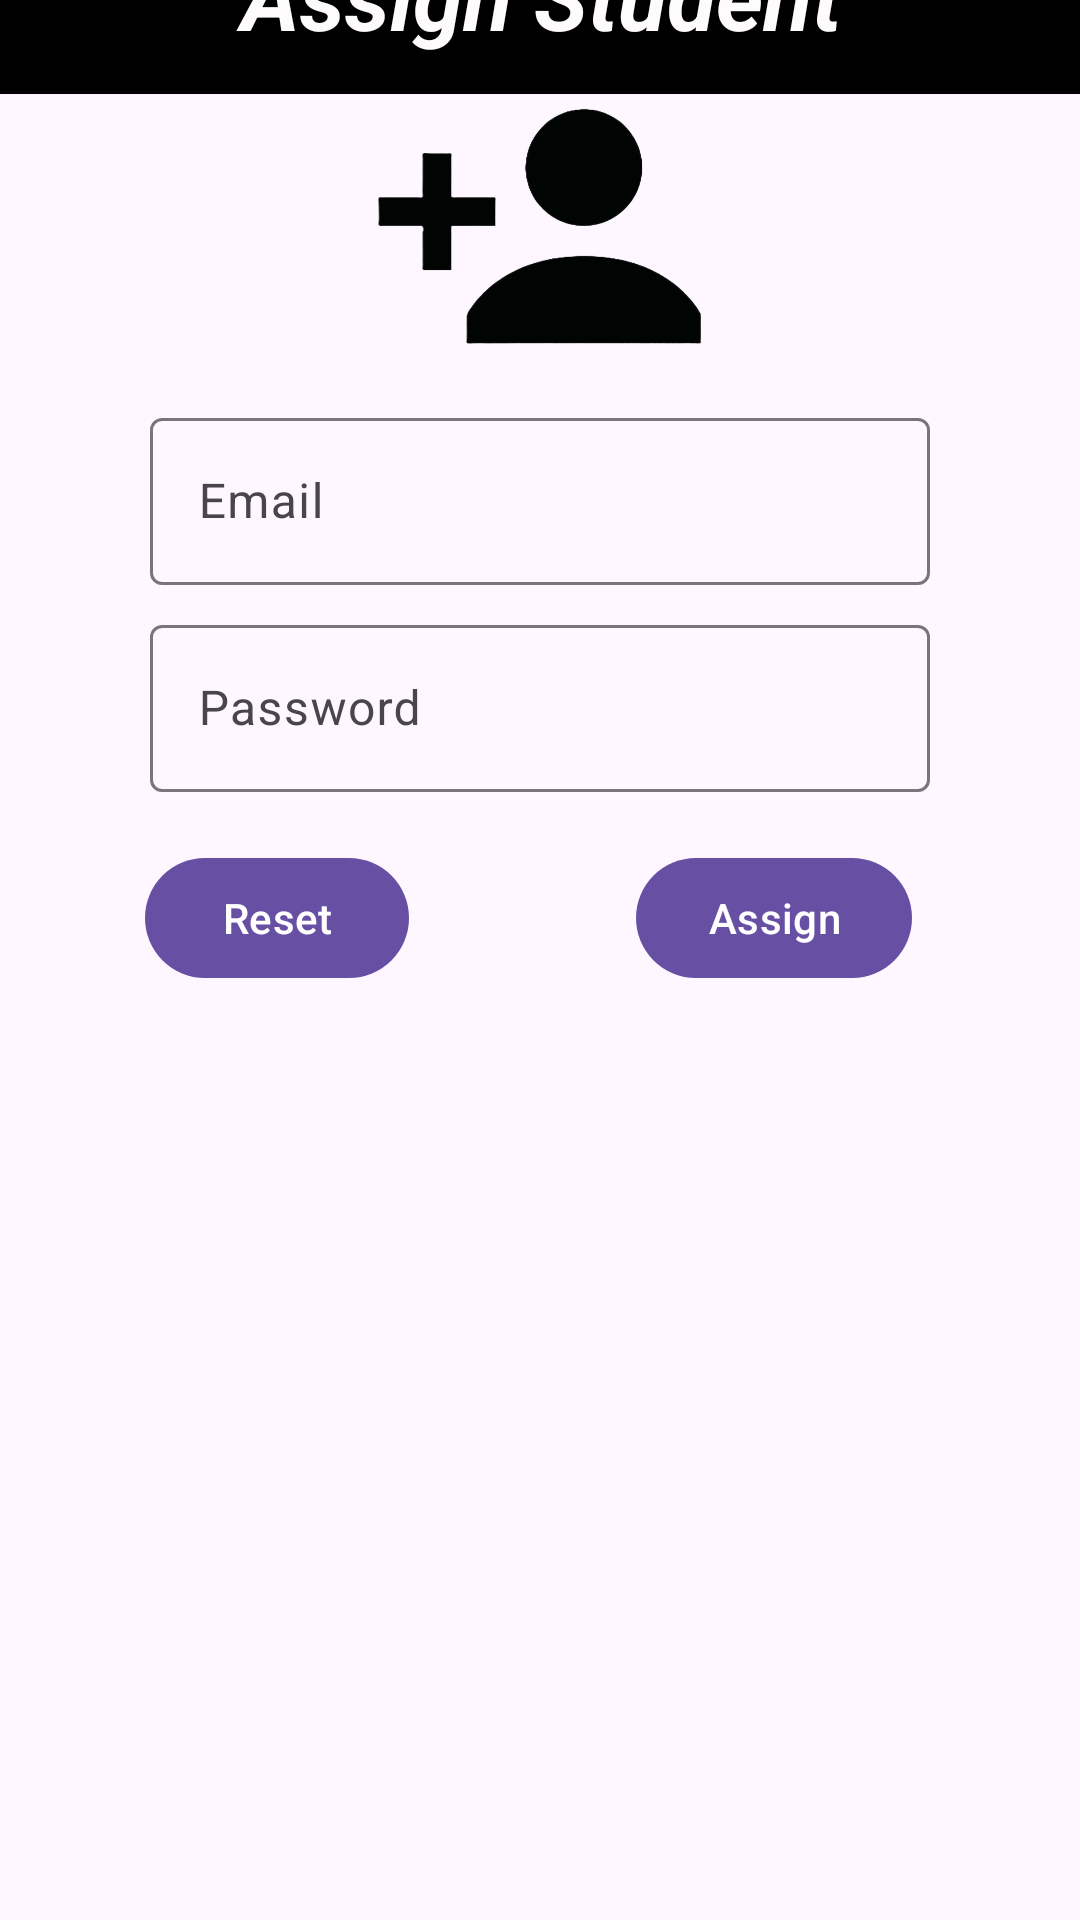

Where to tap for icons on this 1080px×1920px app screen, as [x,y]:
add: [539,226]
